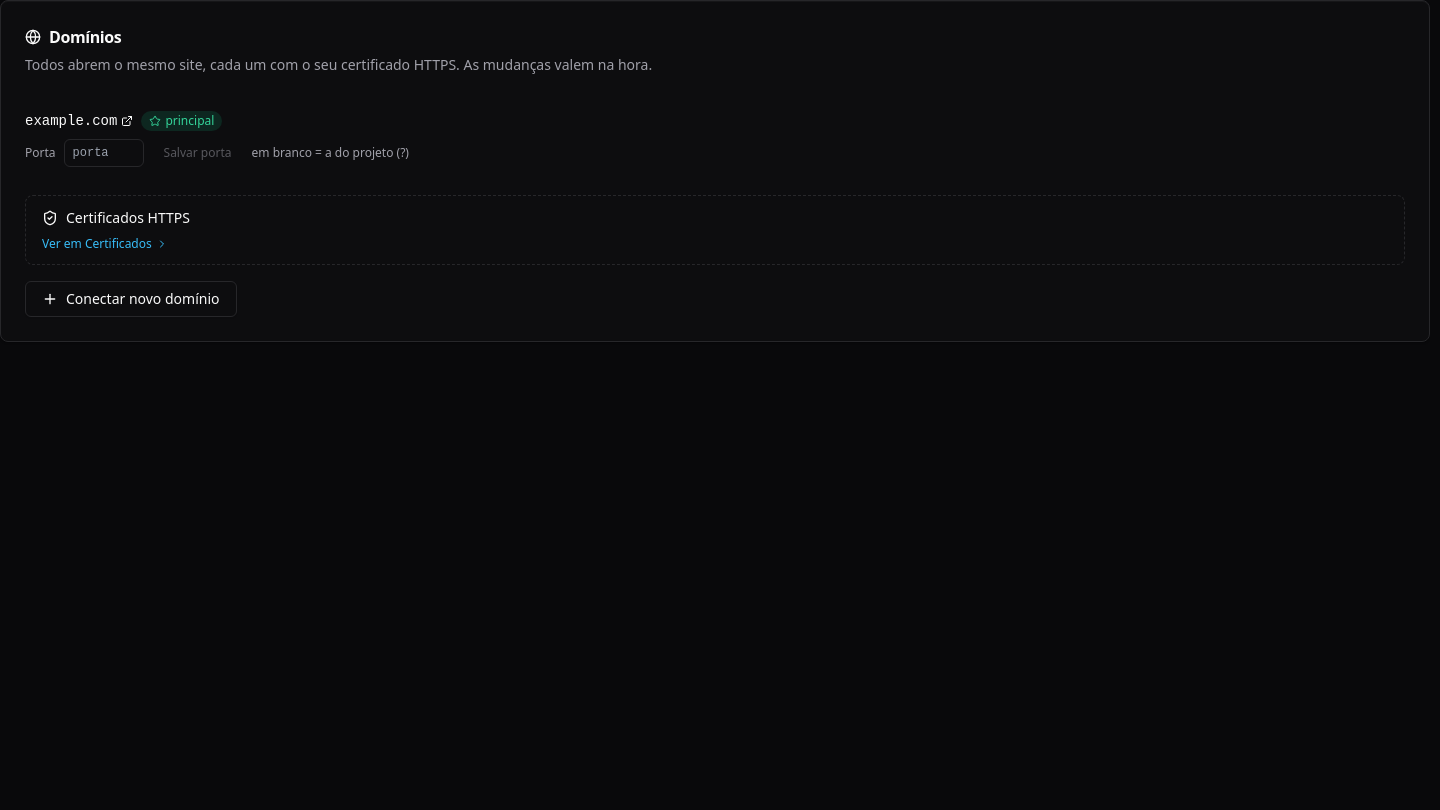
Test case: Conectar novo domínio › erro ao conectar mantém o diálogo aberto com a mensagem
Click the button "Conectar novo domínio".
click(131, 299)  # box [25,281,236,317]
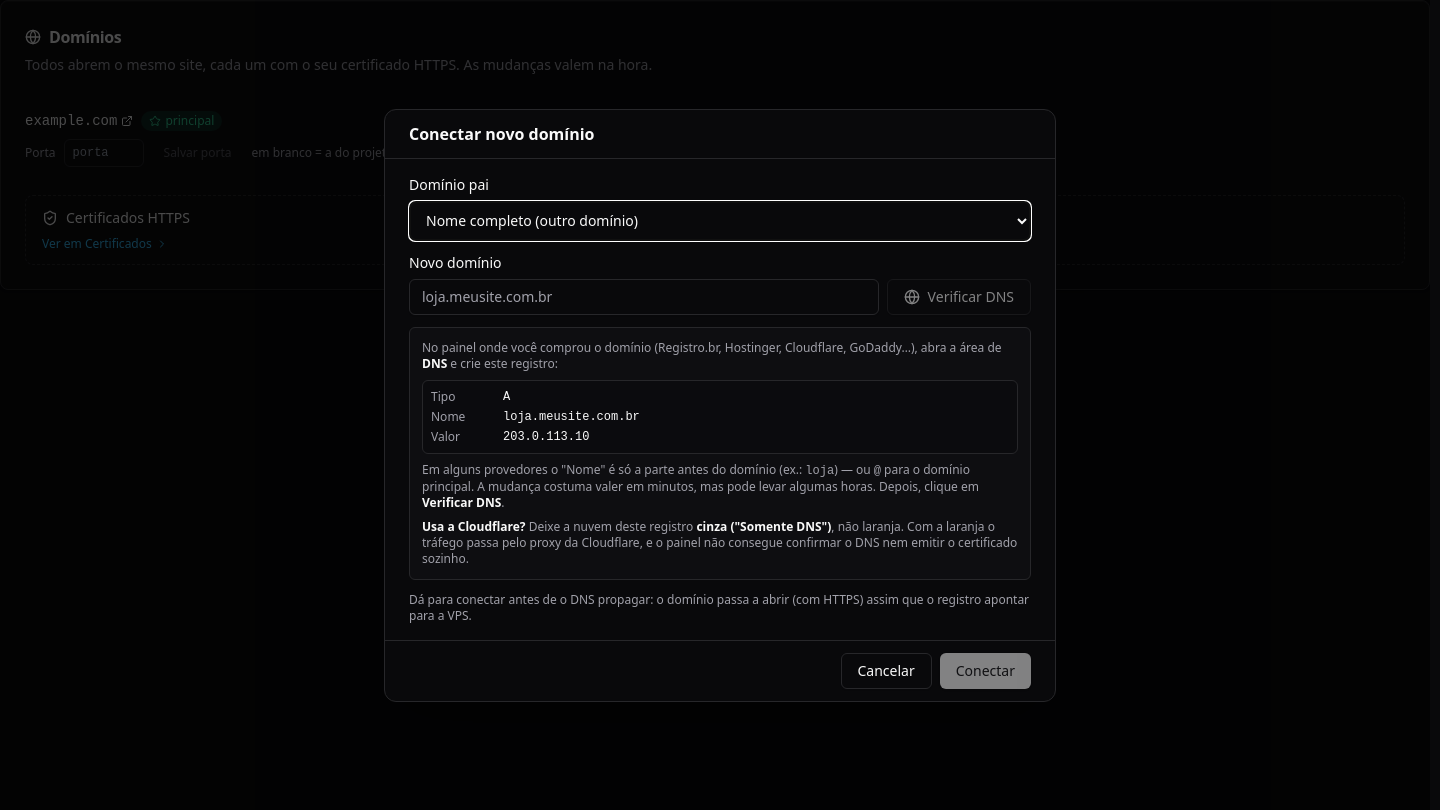
Type "app.example.com" into the field labelled "Novo domínio Verificar DNS".
click(644, 296); type("app.example.com")  # box [409,278,879,314]
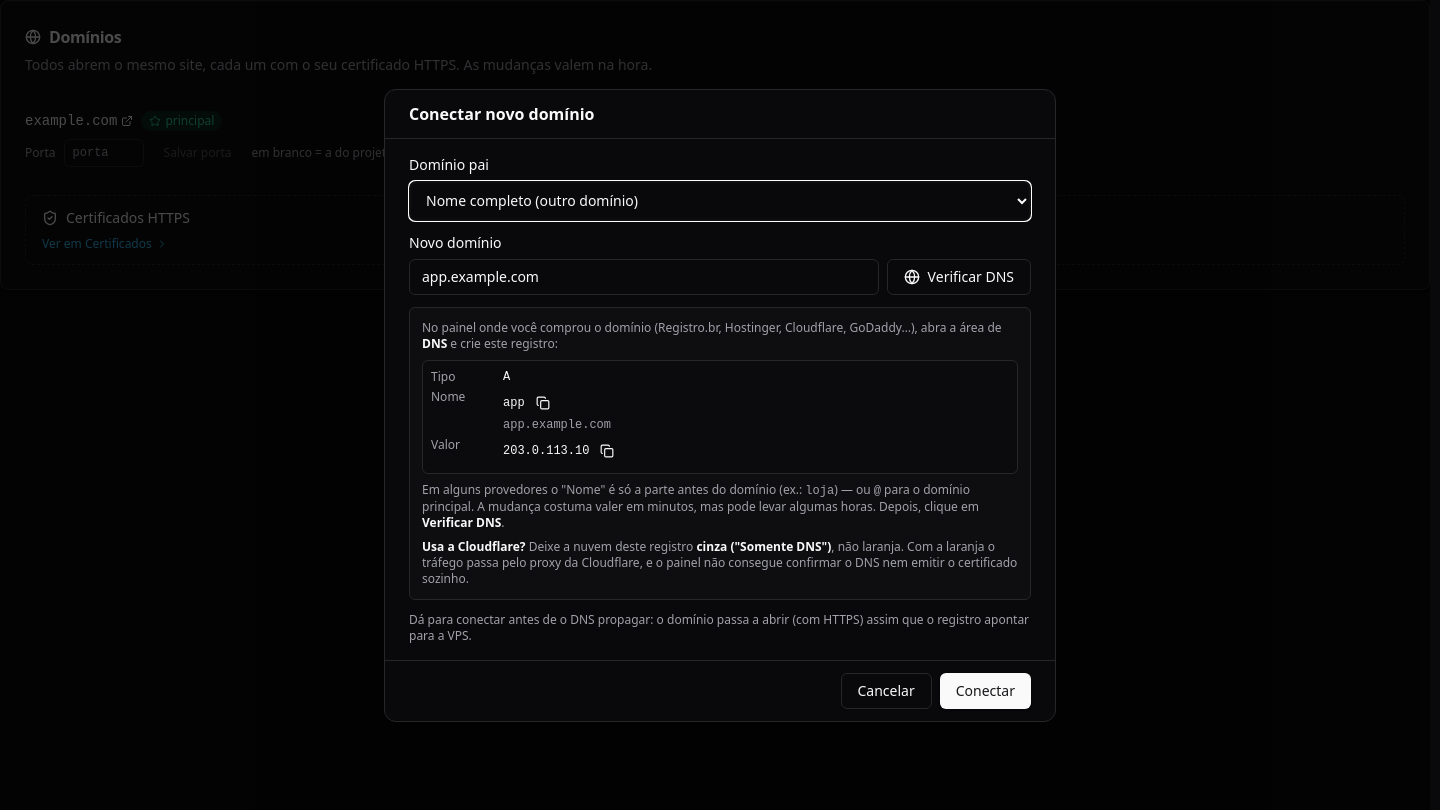
Click the button "Conectar".
click(985, 690)  # box [940,672,1031,708]
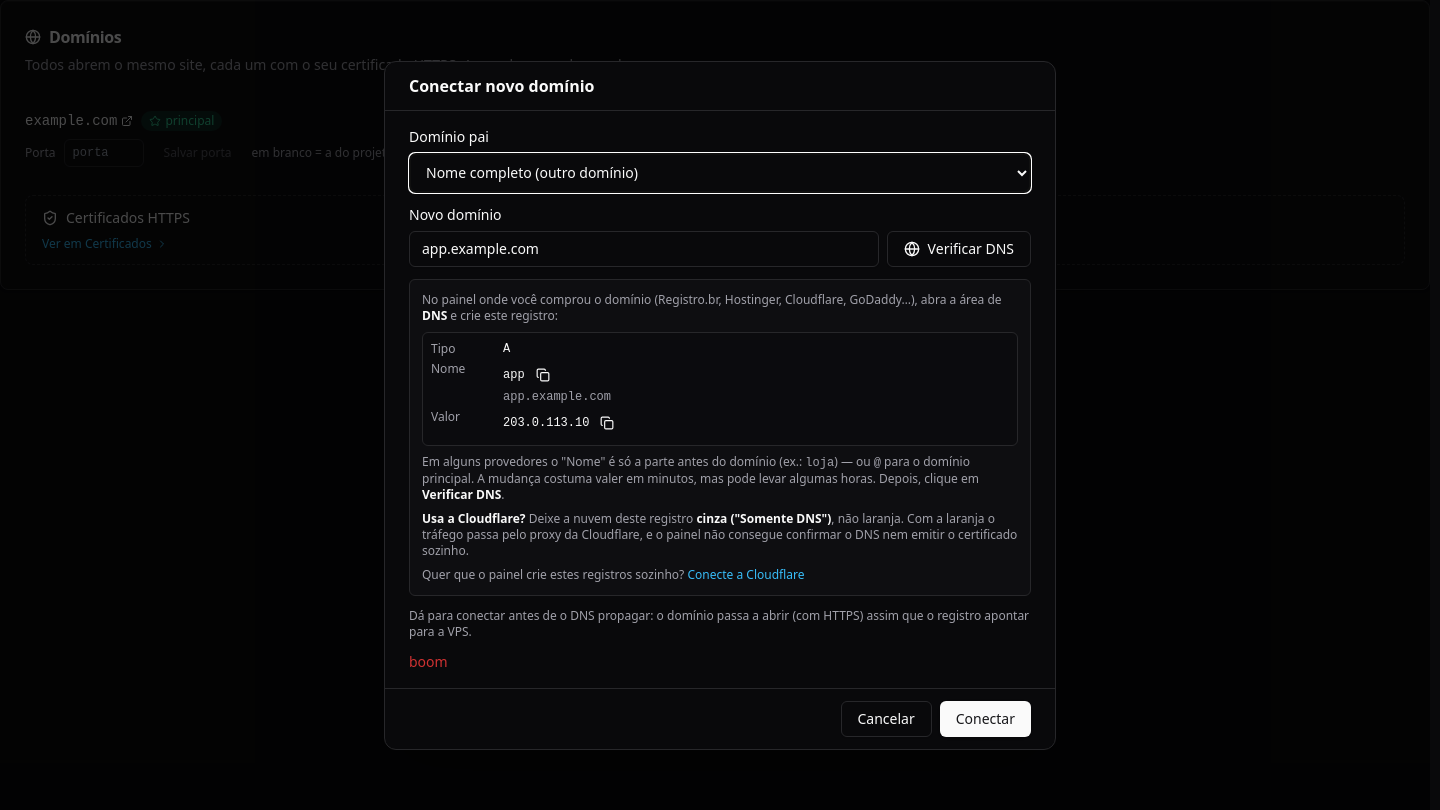
Check: the dialog with test id "modal-panel" is shown, box [384,60,1056,750]
Check: the message "boom" is shown, box [409,652,448,670]
